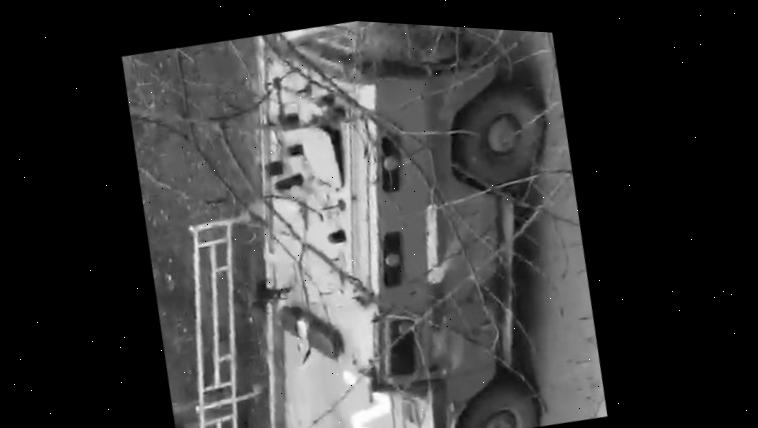armored_car: (210, 14, 614, 428)
